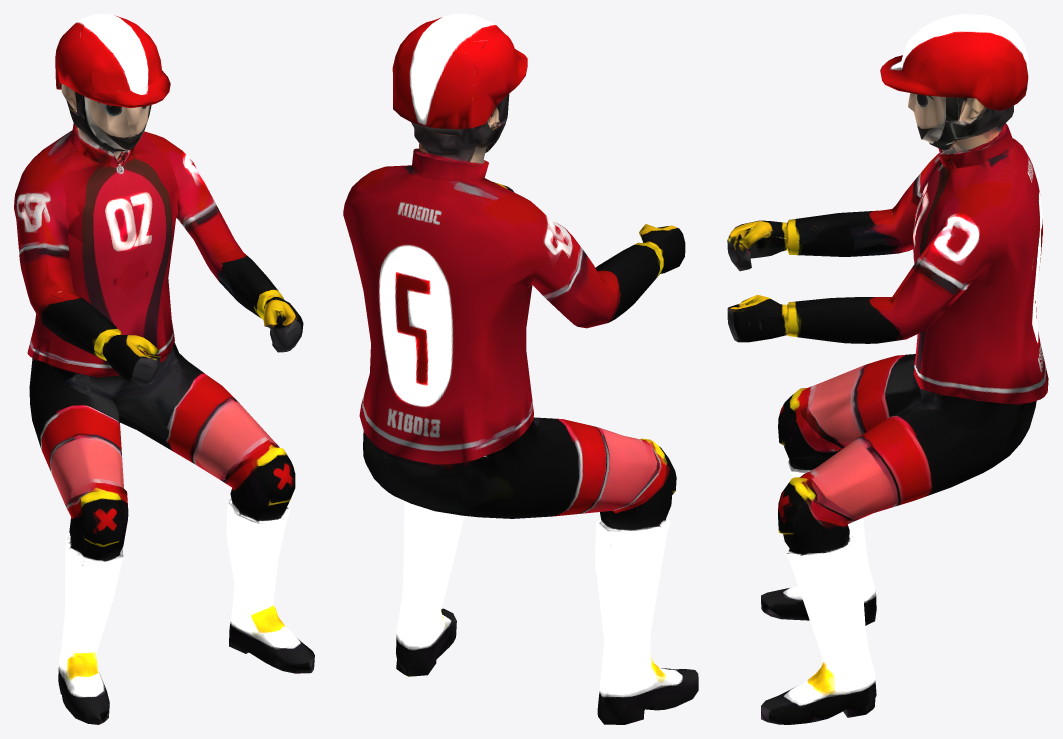
Rendered from red1.glb.
3 views of the same model, side by side, from view 1: azimuth 30°, elevation 25°; view 2: azimuth 150°, elevation 25°; view 3: azimuth 270°, elevation 25° (orthographic). The views are drawn at different scales.
Size of the model in its own units: 0.8095 by 2 by 0.9023.
1 material, 1 textured.
